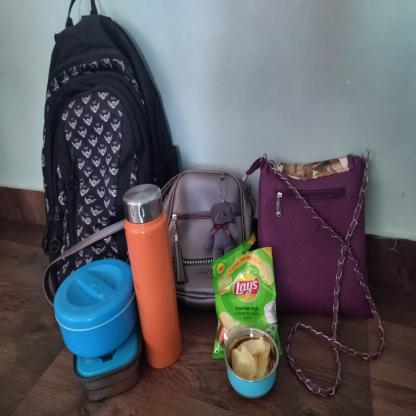cream_and_onion: (210, 244, 283, 358)
